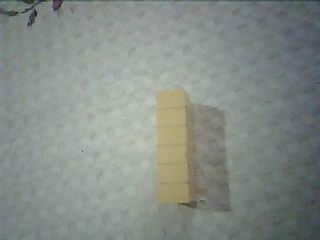lego: (153, 86, 194, 205)
